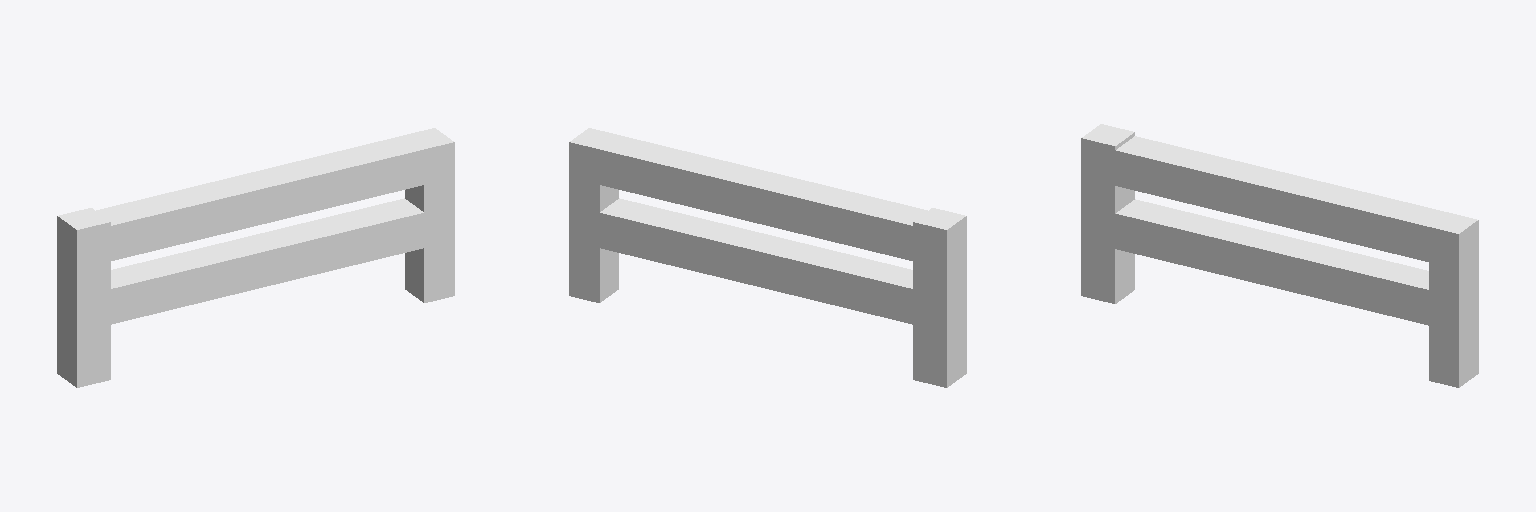
File: Gate2.obj
3 renders of one model, left to right at view 1: azimuth 30°, elevation 25°; view 2: azimuth 150°, elevation 25°; view 3: azimuth 330°, elevation 25°, orthographic.
Parts seen in each view (by area): view 1: object 1; view 2: object 1; view 3: object 1.
Boxes of the visible parts, x1,y1,x2,y2 form: object 1: [57, 128, 454, 387]; object 1: [569, 128, 966, 387]; object 1: [1081, 124, 1478, 387].
Bounding box in the file's own units: 10 × 4 × 0.9.